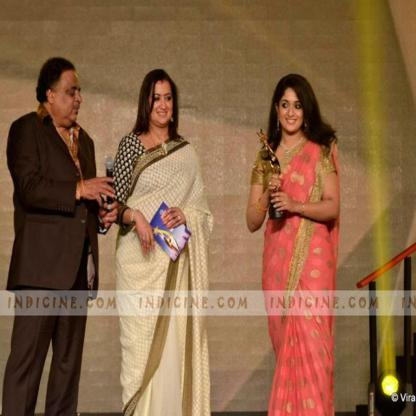face: (56, 62, 82, 121), (147, 78, 175, 125), (279, 87, 305, 135)
